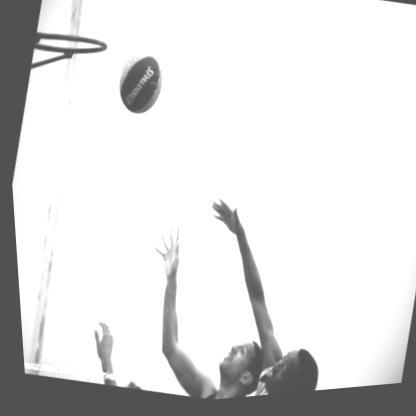basketball: (109, 46, 170, 124)
